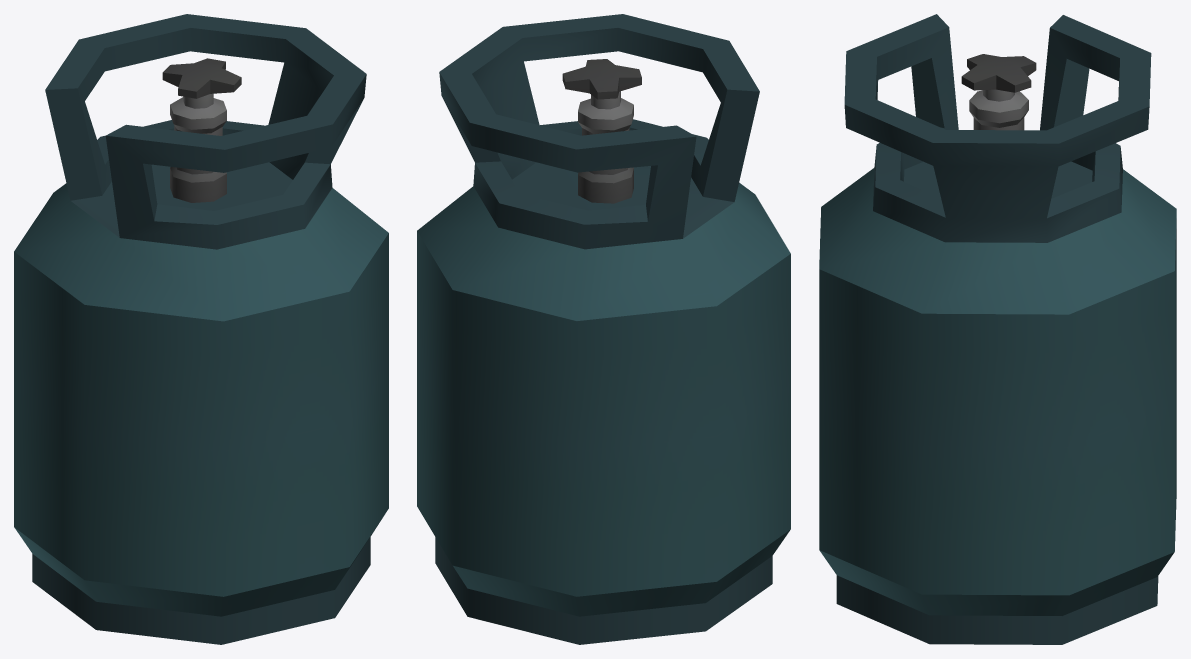
Rendered from GasCylinder_2_1.fbx.
The picture shows the model from 3 angles, left to right: view 1: azimuth 30°, elevation 25°; view 2: azimuth 150°, elevation 25°; view 3: azimuth 270°, elevation 25°; orthographic projection.
Parts seen in each view (by area): view 1: GasCylinder_2_1; view 2: GasCylinder_2_1; view 3: GasCylinder_2_1.
Part boxes in pixels (x1,y1,x2,y2): GasCylinder_2_1: (14,14,388,644); GasCylinder_2_1: (417,14,790,644); GasCylinder_2_1: (819,14,1176,644).
Size of the model in its own units: 38.47 by 60.7 by 38.47.
